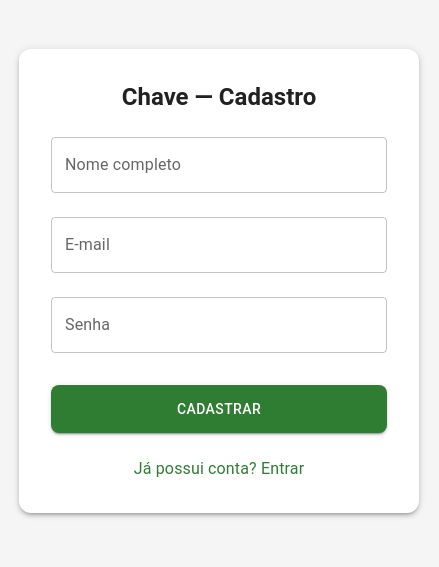
Test case: RegisterPage › exibe erro de servidor em falha de cadastro
Type "Maria" into the field labelled "Nome completo". click: (219, 165)
box: [51,137,387,193]
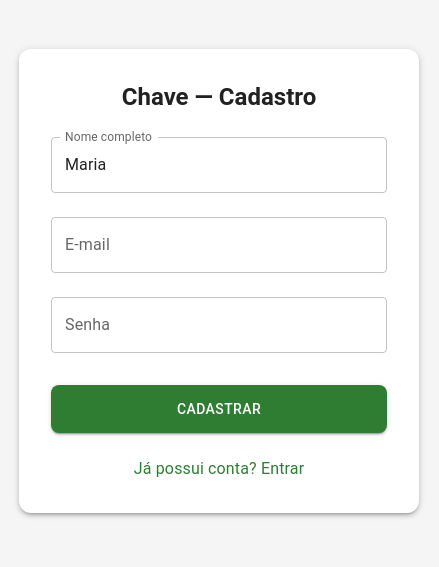
Type "dup@test.com" into the field labelled "E-mail". click: (219, 245)
box: [51,217,387,273]
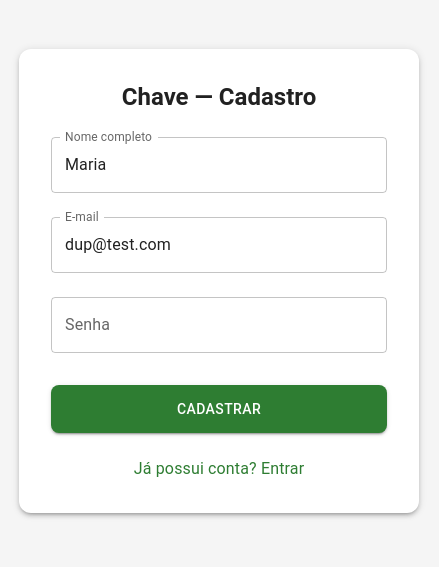
Type "senha123" into the password field labelled "Senha". click: (219, 325)
box: [51,297,387,353]
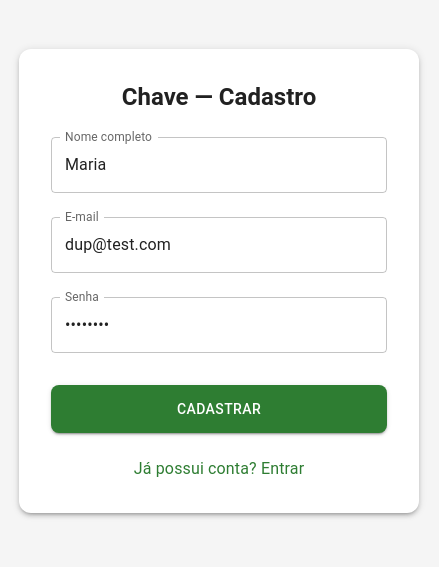
Click the button with test id "register-button". click: (219, 409)
box: [51,385,387,434]
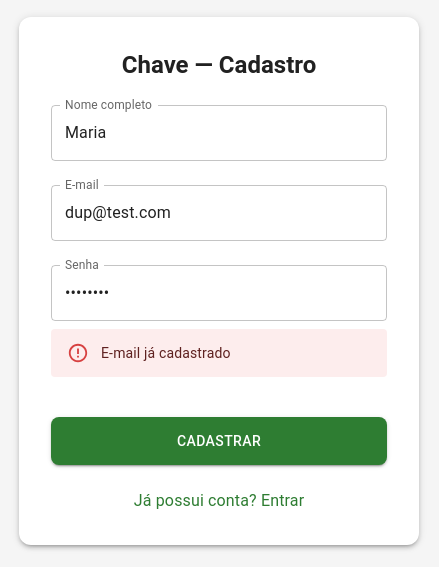
Check: the text "E-mail já cadastrado" is shown, box [101,345,231,361]
